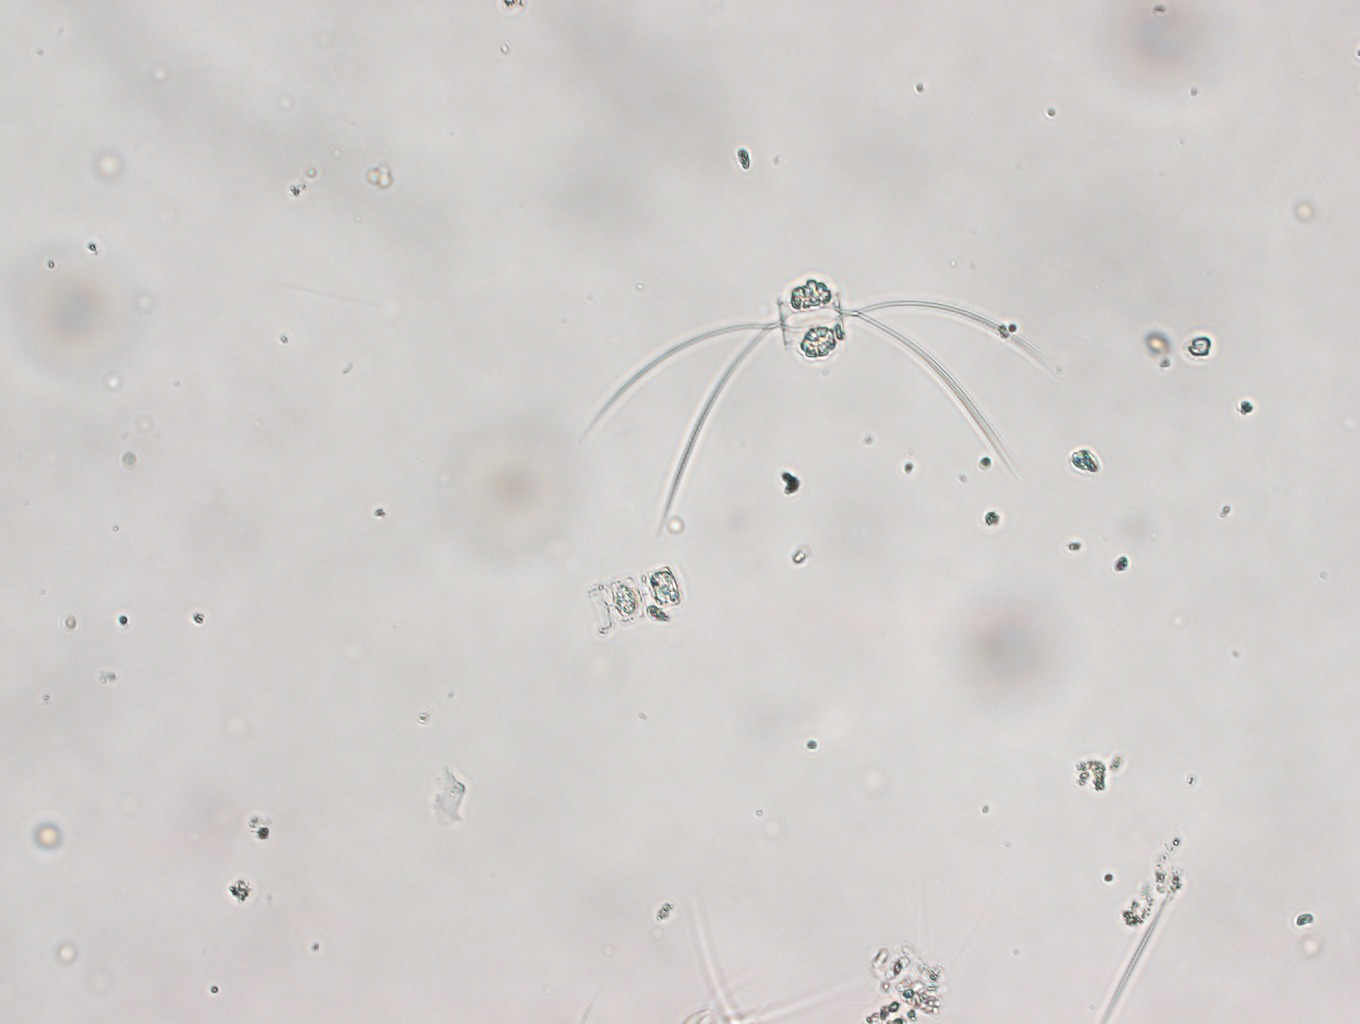chaetoceros: (566, 264, 1051, 532)
